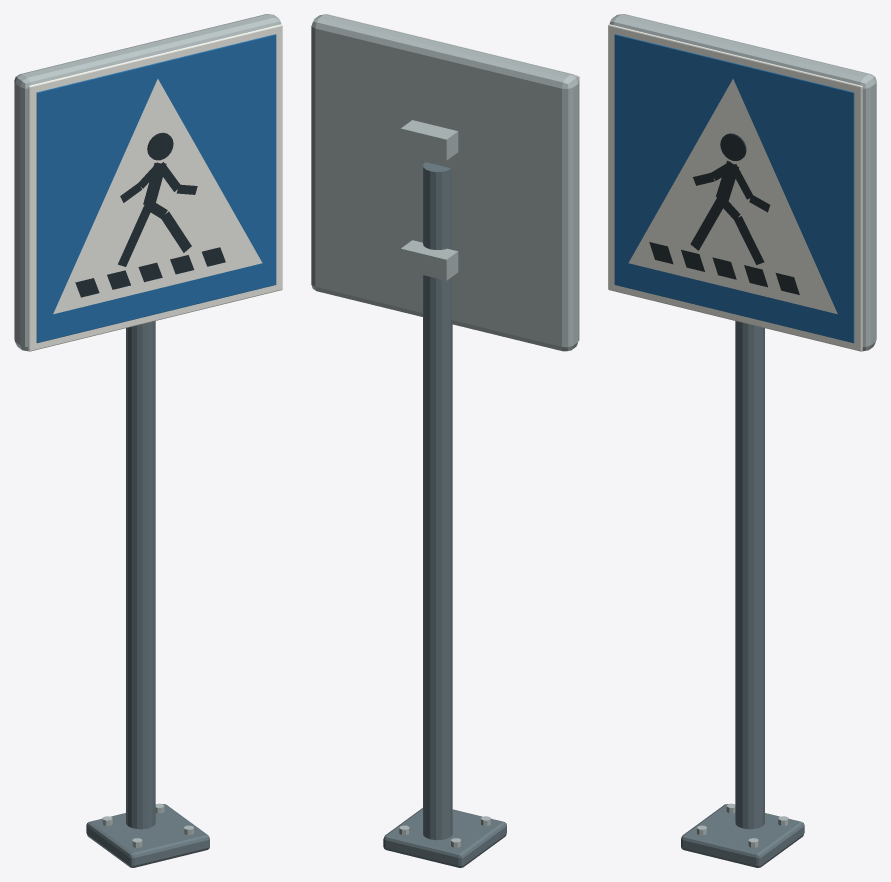
Rendered from SIMUS_Sign_Crosswalk.glb.
3 views of the same model, side by side, from view 1: azimuth 30°, elevation 25°; view 2: azimuth 150°, elevation 25°; view 3: azimuth 330°, elevation 25° (orthographic).
Visible parts, largest first — view 1: Blue face.001, Triangle, Post.004, White border.001, Board back.001, Foot plate.004, Walker legs, Walker head; view 2: Board back.001, Post.004, Foot plate.004, Rear clamp.009, Rear clamp.008, White border.001; view 3: Blue face.001, Triangle, Post.004, White border.001, Board back.001, Foot plate.004, Walker legs, Walker head.
Part boxes in pixels (<box>): Blue face.001: <box>36,34,276,343</box>; Triangle: <box>53,79,262,314</box>; Post.004: <box>126,321,155,829</box>; White border.001: <box>28,24,282,351</box>; Board back.001: <box>14,14,281,351</box>; Foot plate.004: <box>86,804,209,867</box>; Walker legs: <box>118,204,152,266</box>; Walker head: <box>147,132,173,160</box>; Board back.001: <box>311,14,578,351</box>; Post.004: <box>423,162,452,840</box>; Foot plate.004: <box>383,808,506,867</box>; Rear clamp.009: <box>400,120,458,160</box>; Rear clamp.008: <box>400,240,458,280</box>; White border.001: <box>326,14,579,340</box>; Blue face.001: <box>614,34,854,343</box>; Triangle: <box>628,79,837,314</box>; Post.004: <box>735,321,764,829</box>; White border.001: <box>608,24,862,351</box>; Board back.001: <box>609,14,876,351</box>; Foot plate.004: <box>681,804,804,867</box>; Walker legs: <box>690,197,725,250</box>; Walker head: <box>720,133,746,160</box>.
Bounding box in the file's own units: 0.91 × 2.66 × 0.28.
